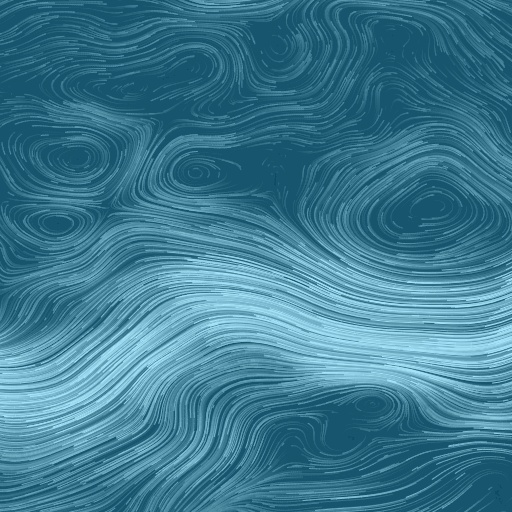eddy: (353, 156, 507, 255), (78, 40, 224, 114), (41, 131, 110, 186), (166, 150, 239, 193), (20, 204, 93, 245), (349, 391, 395, 416), (265, 28, 292, 59)
